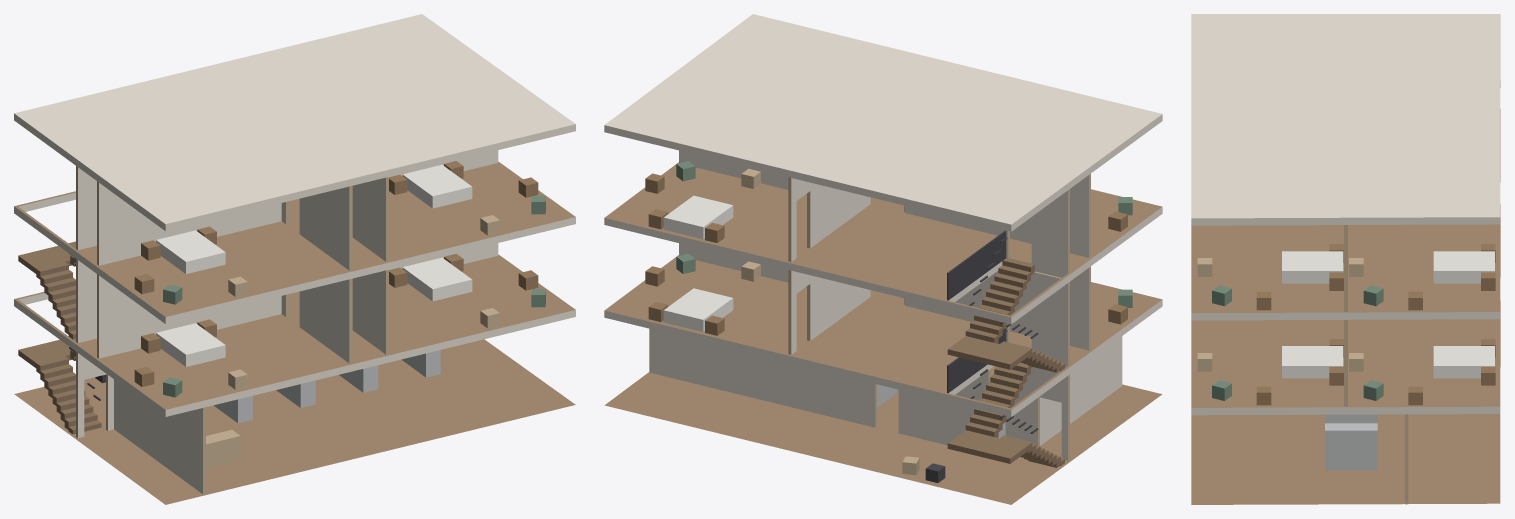
The model's file is interior.glb.
3 views of the same model, side by side, from view 1: azimuth 30°, elevation 25°; view 2: azimuth 150°, elevation 25°; view 3: azimuth 270°, elevation 25° (orthographic). The views are drawn at different scales.
Visible parts, largest first — view 1: slabs, partitions, coarse-s1, coarse-s2, stair, coarse-s0; view 2: slabs, partitions, stair, coarse-s1, coarse-s2, coarse-s0; view 3: slabs, coarse-s2, coarse-s1, coarse-s0, partitions.
Boxes of the visible parts, x1,y1,x2,y2 form: slabs: [14, 14, 575, 504]; partitions: [76, 150, 498, 494]; coarse-s1: [134, 253, 545, 397]; coarse-s2: [134, 161, 545, 304]; stair: [18, 241, 101, 434]; coarse-s0: [95, 350, 440, 468]; slabs: [604, 14, 1162, 504]; partitions: [649, 150, 1122, 460]; stair: [947, 230, 1064, 467]; coarse-s1: [645, 253, 1132, 335]; coarse-s2: [645, 161, 1132, 243]; coarse-s0: [877, 384, 1005, 482]; slabs: [1191, 14, 1500, 504]; coarse-s2: [1197, 244, 1495, 310]; coarse-s1: [1197, 339, 1495, 405]; coarse-s0: [1325, 414, 1377, 470]; partitions: [1344, 225, 1408, 504].
Bounding box in the file's own units: 15.72 × 10.3 × 10.06.
